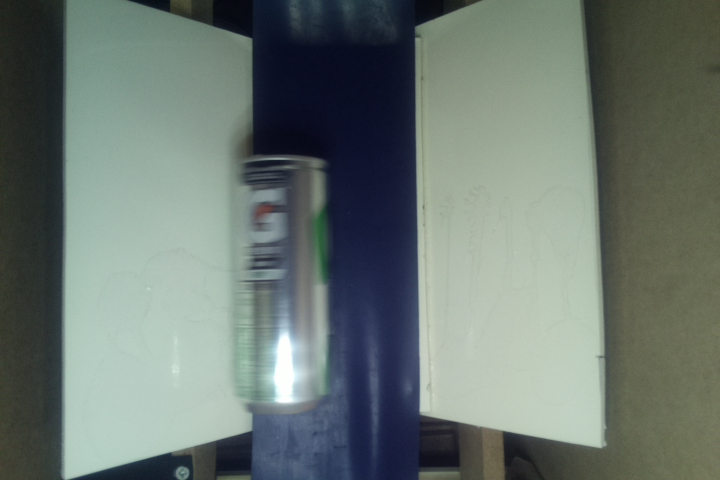can: (231, 152, 331, 413)
